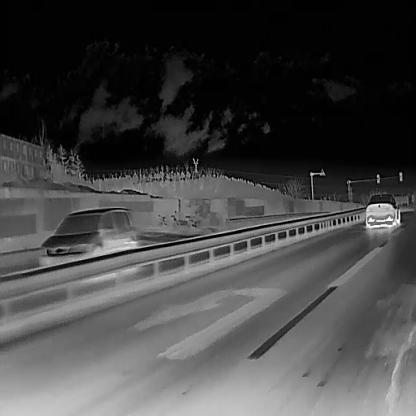car: (37, 206, 139, 270), (364, 193, 401, 228)
